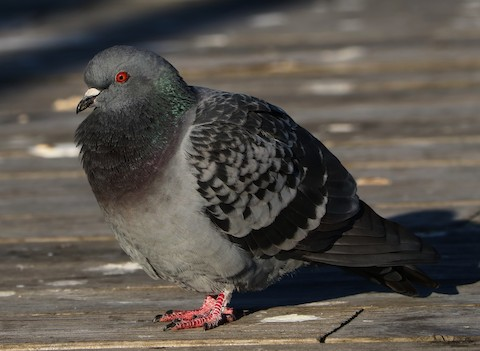pigeon: (70, 44, 441, 334)
